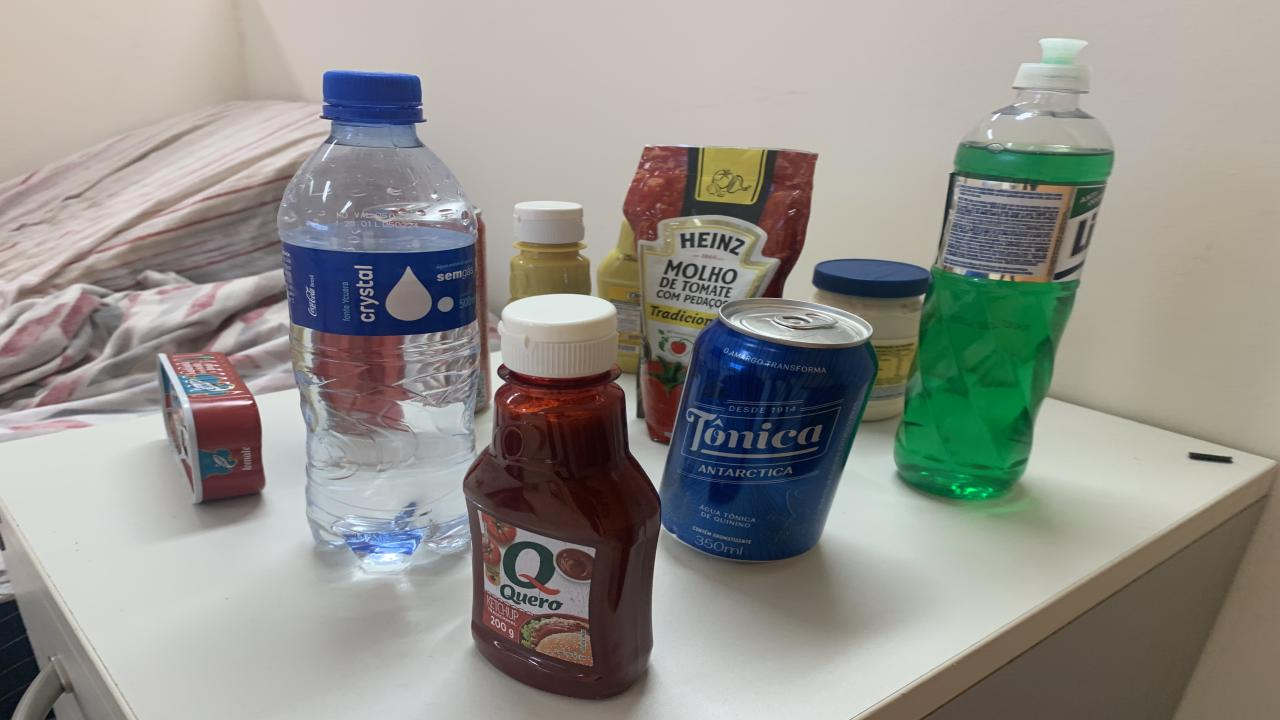Detergent-Cleanup_Items: (895, 39, 1112, 499)
Ketchup-Pantry_Items: (465, 294, 660, 699)
Mayonnaise-Pantry_Items: (812, 259, 930, 422)
Mustard-Pantry_Items: (510, 201, 590, 302), (598, 219, 640, 373)
Tomato_Sauce-Pantry_Items: (625, 146, 818, 442)
Tonic-Drinks: (660, 298, 878, 561)
Tuna_Can-Pantry_Items: (158, 352, 265, 502)
Water_Bottle-Drinks: (278, 71, 480, 570)
